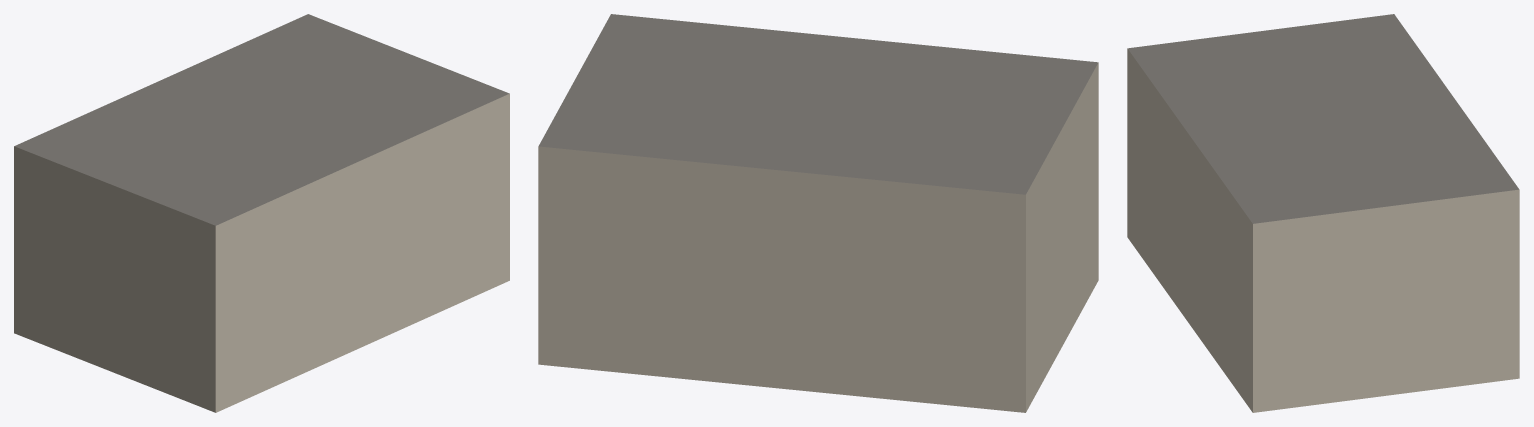
3 views of the same model, side by side, from view 1: azimuth 30°, elevation 25°; view 2: azimuth 150°, elevation 25°; view 3: azimuth 270°, elevation 25° (orthographic). The views are drawn at different scales.
Parts seen in each view (by area): view 1: HP-w446933537; view 2: HP-w446933537; view 3: HP-w446933537.
Boxes of the visible parts, bbox=[...] form: HP-w446933537: bbox=[14, 14, 509, 412]; HP-w446933537: bbox=[538, 14, 1098, 412]; HP-w446933537: bbox=[1127, 14, 1519, 412].
Size of the model in its own units: 42.86 by 18 by 33.83.
